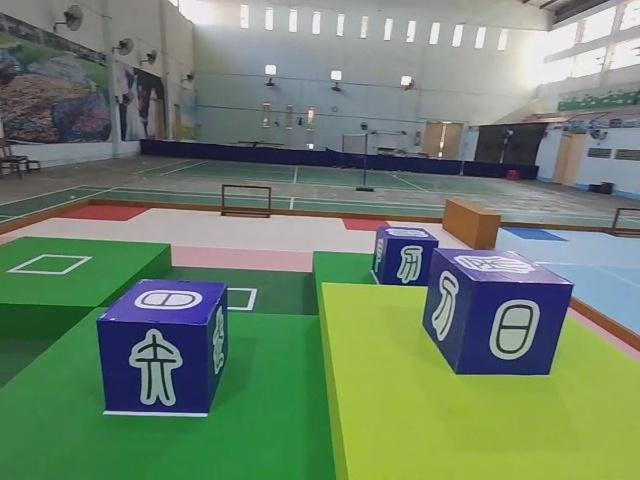R2 Fake Blue: (422, 249, 573, 378), (100, 280, 232, 420), (373, 227, 441, 289)
